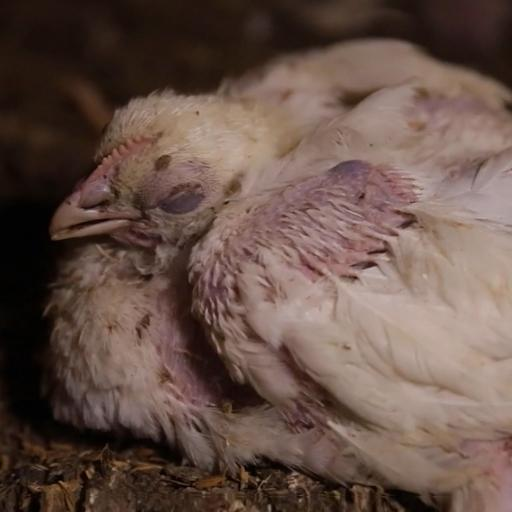disease: (58, 98, 214, 266), (107, 142, 112, 142)
